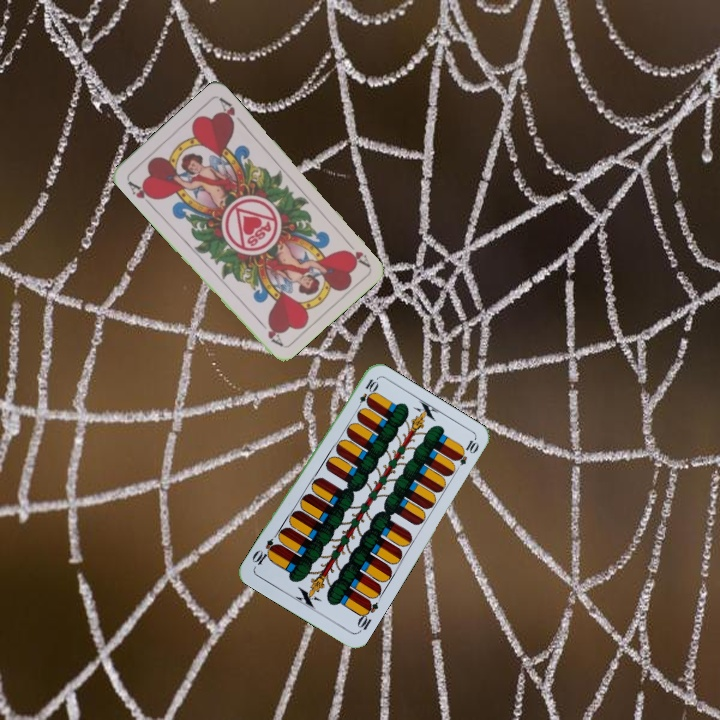E10: (353, 596, 381, 635), (352, 375, 380, 413)
HA: (123, 176, 159, 209), (341, 235, 372, 269)
